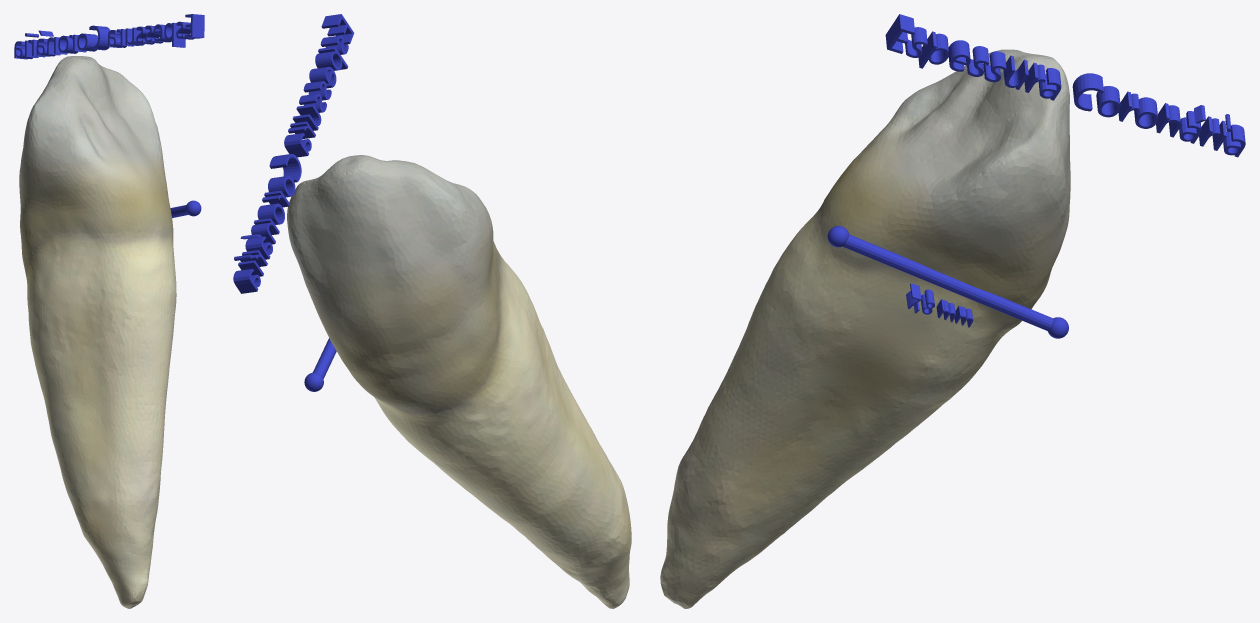
Rendered from 33 - Espessura Coronária.glb.
3 renders of one model, left to right at view 1: azimuth 30°, elevation 25°; view 2: azimuth 150°, elevation 25°; view 3: azimuth 270°, elevation 25°, orthographic. The views are drawn at different scales.
Parts seen in each view (by area): view 1: 3MFMeshParent_0, 3MFMeshParent_2; view 2: 3MFMeshParent_0, 3MFMeshParent_2; view 3: 3MFMeshParent_0, 3MFMeshParent_2, 3MFMeshParent_3, 3MFMeshParent_1.
Boxes of the visible parts, x1,y1,x2,y2 form: 3MFMeshParent_0: (19, 56, 176, 608); 3MFMeshParent_2: (14, 14, 204, 59); 3MFMeshParent_0: (287, 155, 631, 608); 3MFMeshParent_2: (233, 14, 354, 293); 3MFMeshParent_0: (660, 49, 1070, 608); 3MFMeshParent_2: (885, 14, 1245, 157); 3MFMeshParent_3: (843, 234, 1053, 330); 3MFMeshParent_1: (906, 283, 973, 327).
Size of the model in its own units: 0.2039 by 0.5404 by 0.4165.
2 materials, 1 textured.
